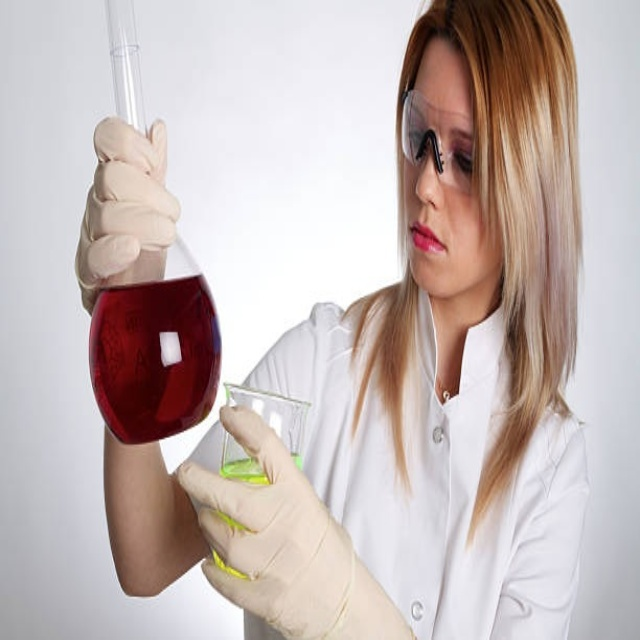Gafas: (401, 90, 476, 195)
Guantes: (178, 406, 412, 640), (77, 114, 182, 303)
Sin_mascara: (404, 209, 457, 284)
